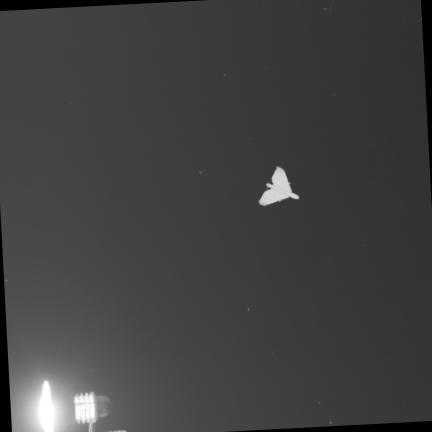Shahed: (258, 167, 298, 205)
